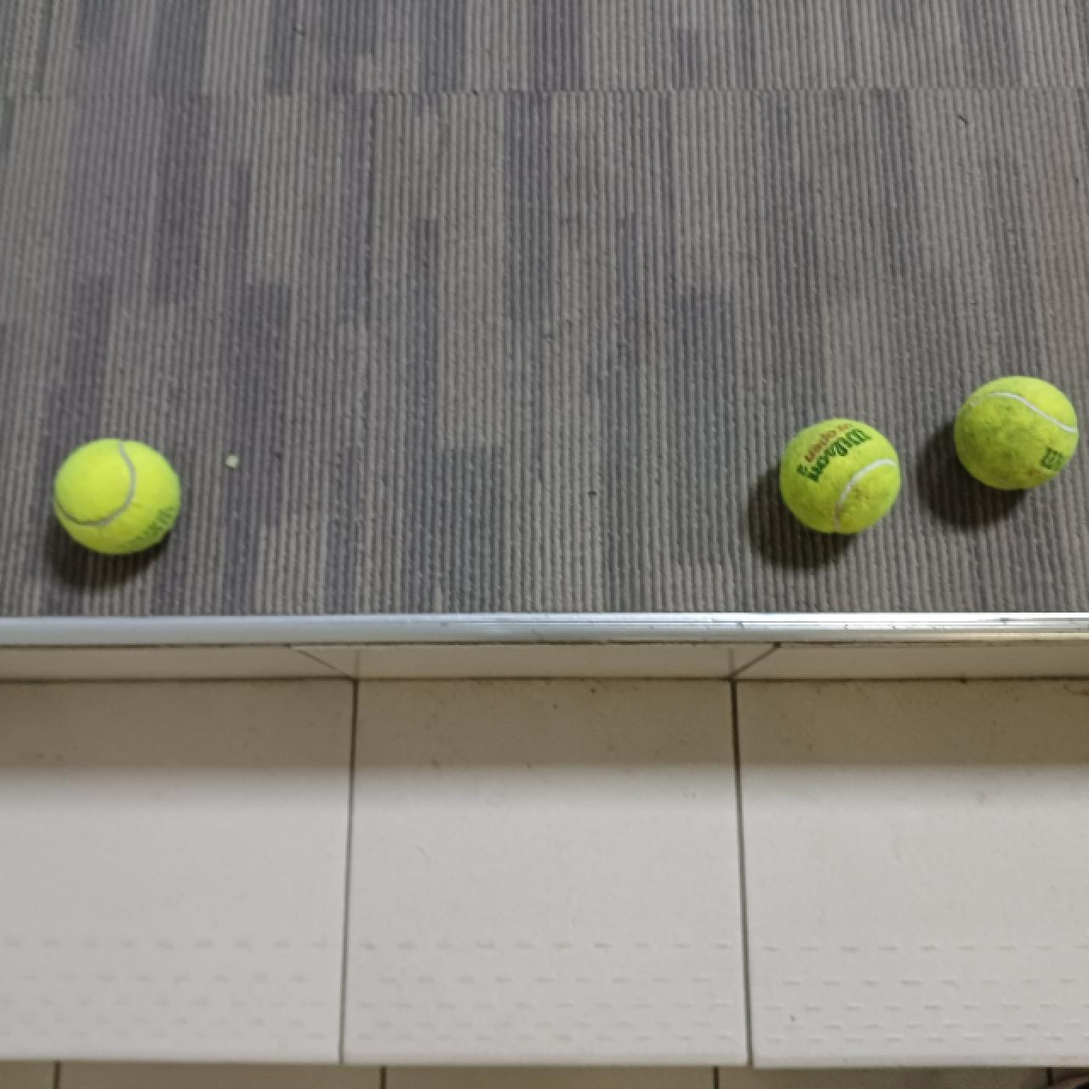tennis-ball: (53, 436, 184, 555), (951, 374, 1078, 492), (780, 416, 902, 535)
